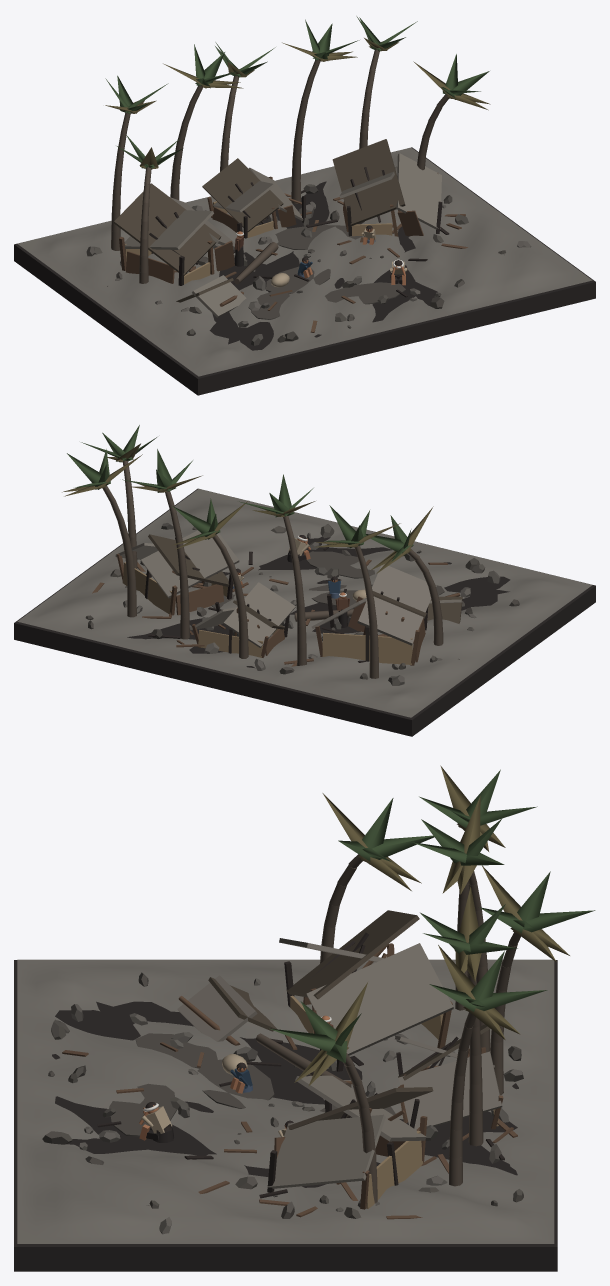
The model's file is 7.Banten_1883_Krakatau_Aftermath_LowPoly-compressed.glb.
3 views of the same model, one above another, from view 1: azimuth 30°, elevation 25°; view 2: azimuth 150°, elevation 25°; view 3: azimuth 270°, elevation 25° (orthographic). The views are drawn at different scales.
Visible parts, largest first — view 1: Alas_Diorama_Tanah_Abu, Pohon_Kelapa_Banten (×7), Rumah_Banten_Kanan, Rumah_Banten_Kiri_Utama, Puing_Puing_Bencana_1883, Rumah_Banten_Tengah_Belakang, Gubuk_Roboh_Total; view 2: Alas_Diorama_Tanah_Abu, Pohon_Kelapa_Banten (×7), Rumah_Banten_Kiri_Utama, Rumah_Banten_Kanan, Puing_Puing_Bencana_1883, Rumah_Banten_Tengah_Belakang, Gubuk_Roboh_Total; view 3: Alas_Diorama_Tanah_Abu, Pohon_Kelapa_Banten (×7), Rumah_Banten_Kiri_Utama, Rumah_Banten_Kanan, Puing_Puing_Bencana_1883, Rumah_Banten_Tengah_Belakang, Gubuk_Roboh_Total, Penduduk_Berduka_Menutup_Wajah.
Boxes of the visible parts, left/top/right/bottom form: Alas_Diorama_Tanah_Abu: left=14, top=147, right=595, bottom=395; Pohon_Kelapa_Banten (×7): left=105, top=16, right=490, bottom=283; Rumah_Banten_Kanan: left=332, top=139, right=442, bottom=236; Rumah_Banten_Kiri_Utama: left=113, top=183, right=242, bottom=285; Puing_Puing_Bencana_1883: left=86, top=184, right=531, bottom=345; Rumah_Banten_Tengah_Belakang: left=202, top=158, right=305, bottom=238; Gubuk_Roboh_Total: left=176, top=275, right=246, bottom=317; Alas_Diorama_Tanah_Abu: left=14, top=488, right=595, bottom=736; Pohon_Kelapa_Banten (×7): left=62, top=425, right=443, bottom=678; Rumah_Banten_Kiri_Utama: left=311, top=564, right=436, bottom=665; Rumah_Banten_Kanan: left=115, top=530, right=239, bottom=615; Puing_Puing_Bencana_1883: left=85, top=523, right=519, bottom=685; Rumah_Banten_Tengah_Belakang: left=190, top=582, right=295, bottom=657; Gubuk_Roboh_Total: left=427, top=592, right=464, bottom=623; Alas_Diorama_Tanah_Abu: left=14, top=959, right=557, bottom=1271; Pohon_Kelapa_Banten (×7): left=269, top=765, right=595, bottom=1203; Rumah_Banten_Kiri_Utama: left=279, top=910, right=453, bottom=1071; Rumah_Banten_Kanan: left=267, top=1075, right=433, bottom=1209; Puing_Puing_Bencana_1883: left=42, top=972, right=523, bottom=1234; Rumah_Banten_Tengah_Belakang: left=395, top=1024, right=503, bottom=1129; Gubuk_Roboh_Total: left=177, top=975, right=276, bottom=1045; Penduduk_Berduka_Menutup_Wajah: left=139, top=1102, right=173, bottom=1142.
Size of the model in its own units: 20.33 by 9.2 by 17.13.
